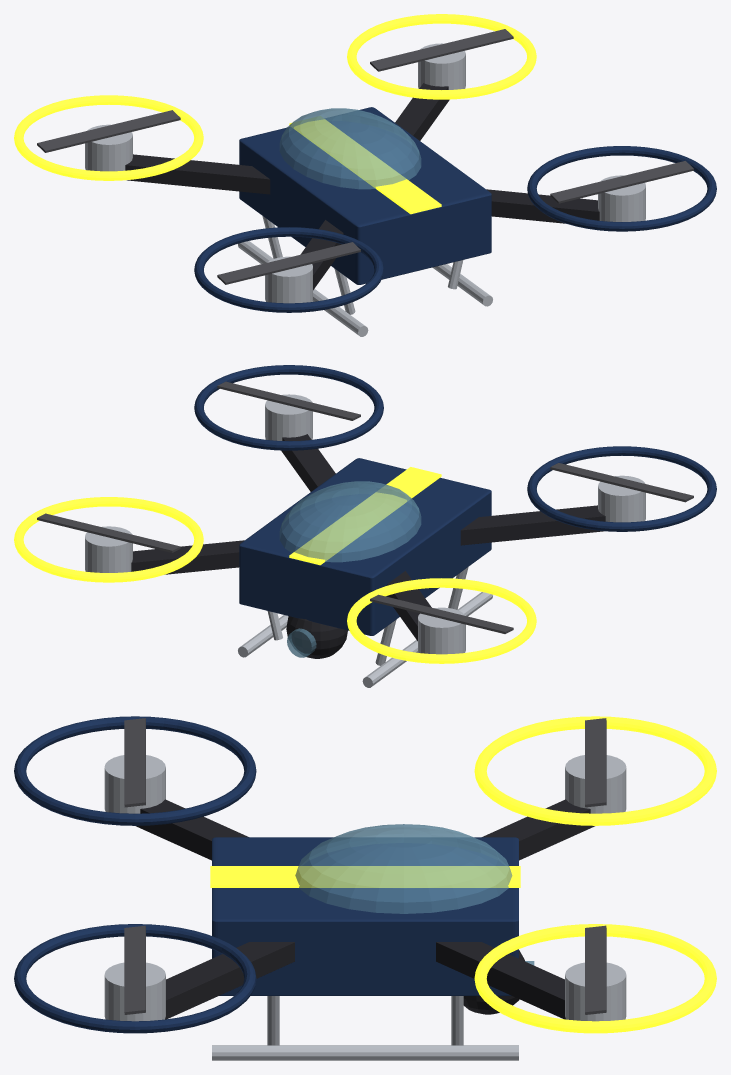
File: drone.glb
The picture shows the model from 3 angles, top to bottom: view 1: azimuth 30°, elevation 25°; view 2: azimuth 150°, elevation 25°; view 3: azimuth 270°, elevation 25°; orthographic projection. The views are drawn at different scales.
Visible parts, largest first — view 1: drone_corpo, elica_0, elica_2, elica_1, elica_3; view 2: drone_corpo, elica_3, elica_0, elica_1, elica_2; view 3: drone_corpo, elica_1, elica_2, elica_0, elica_3.
Boxes of the visible parts, left/top/right/bottom form: drone_corpo: left=14, top=14, right=716, bottom=336; elica_0: left=370, top=29, right=513, bottom=71; elica_2: left=217, top=242, right=360, bottom=284; elica_1: left=37, top=110, right=180, bottom=152; elica_3: left=550, top=161, right=693, bottom=203; drone_corpo: left=14, top=365, right=716, bottom=687; elica_3: left=217, top=381, right=360, bottom=420; elica_0: left=37, top=513, right=180, bottom=552; elica_1: left=370, top=594, right=513, bottom=633; elica_2: left=550, top=463, right=693, bottom=502; drone_corpo: left=14, top=716, right=716, bottom=1060; elica_1: left=585, top=718, right=606, bottom=807; elica_2: left=124, top=718, right=145, bottom=807; elica_0: left=585, top=925, right=606, bottom=1014; elica_3: left=124, top=925, right=145, bottom=1014.
Size of the model in its own units: 0.478 by 0.1322 by 0.458.
